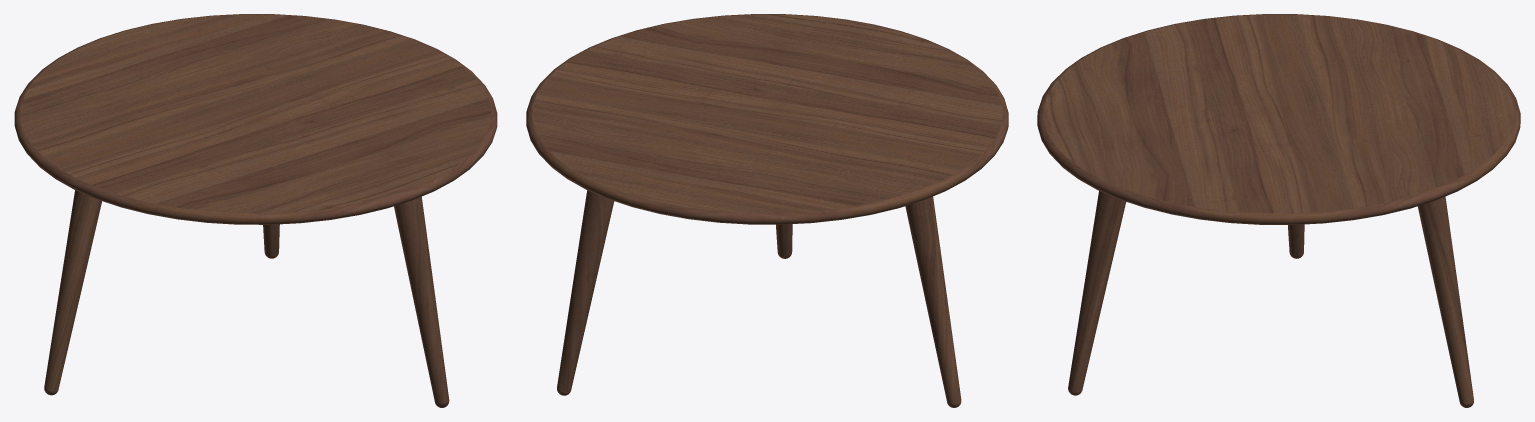
3 renders of one model, left to right at view 1: azimuth 30°, elevation 25°; view 2: azimuth 150°, elevation 25°; view 3: azimuth 270°, elevation 25°, orthographic.
Parts seen in each view (by area): view 1: SM_CH008; view 2: SM_CH008; view 3: SM_CH008.
Boxes of the visible parts, <box> form: SM_CH008: <box>14,14,497,407</box>; SM_CH008: <box>526,14,1008,407</box>; SM_CH008: <box>1037,14,1520,407</box>.
Bounding box in the file's own units: 0.8788 × 0.4808 × 0.8788.
1 material, 1 textured.
